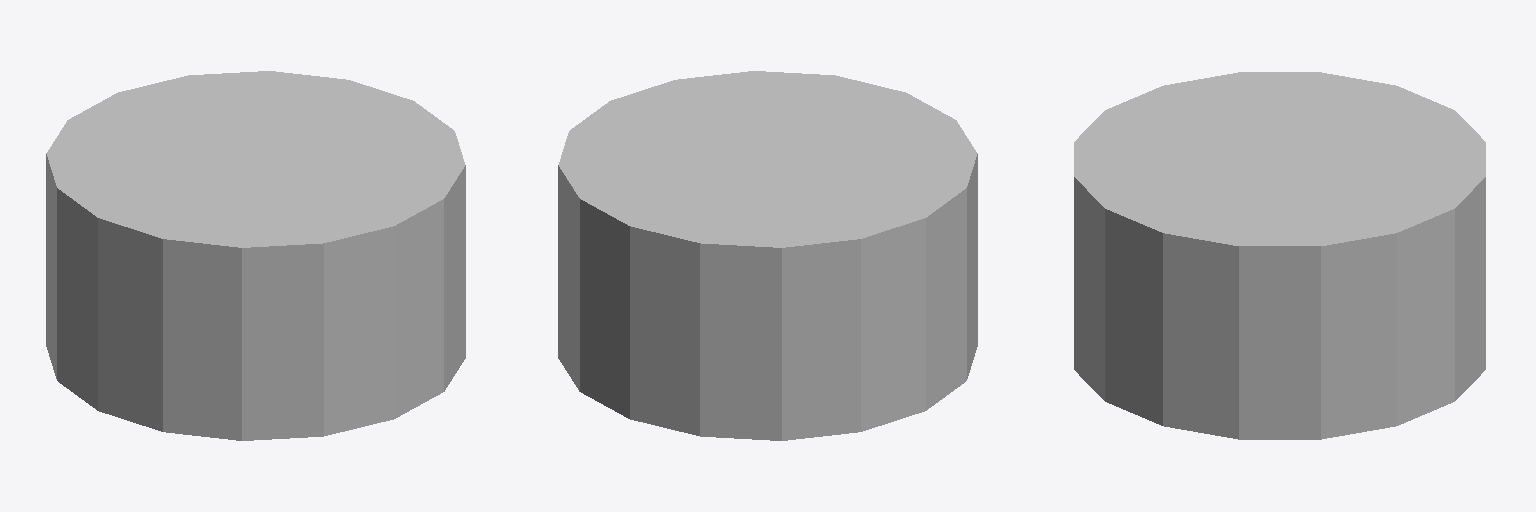
File: Knight_LFO_C_Collider.obj
3 renders of one model, left to right at view 1: azimuth 30°, elevation 25°; view 2: azimuth 150°, elevation 25°; view 3: azimuth 270°, elevation 25°, orthographic.
Visible parts, largest first — view 1: Knight_LFO_C_Collider; view 2: Knight_LFO_C_Collider; view 3: Knight_LFO_C_Collider.
Boxes of the visible parts, box(x1,y1,x2,y2) form: Knight_LFO_C_Collider: box(46, 71, 465, 440); Knight_LFO_C_Collider: box(558, 71, 977, 440); Knight_LFO_C_Collider: box(1074, 72, 1485, 439).
Size of the model in its own units: 0.9375 by 0.485 by 0.9375.